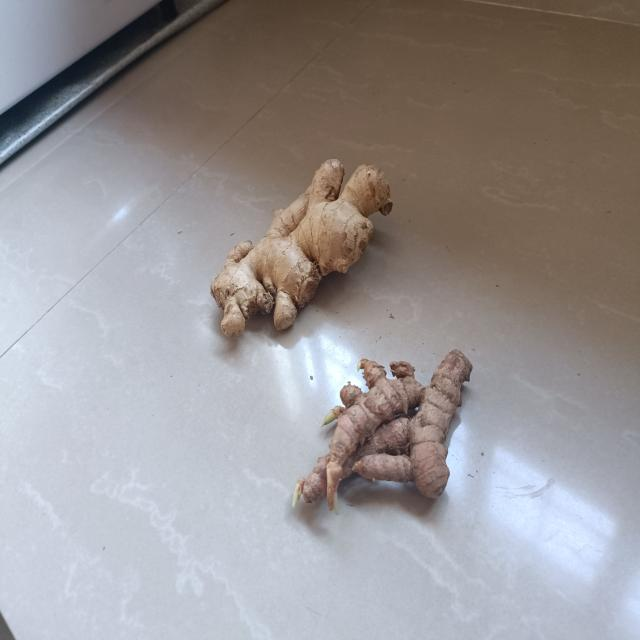ginger: (212, 155, 392, 336), (296, 353, 472, 507)
